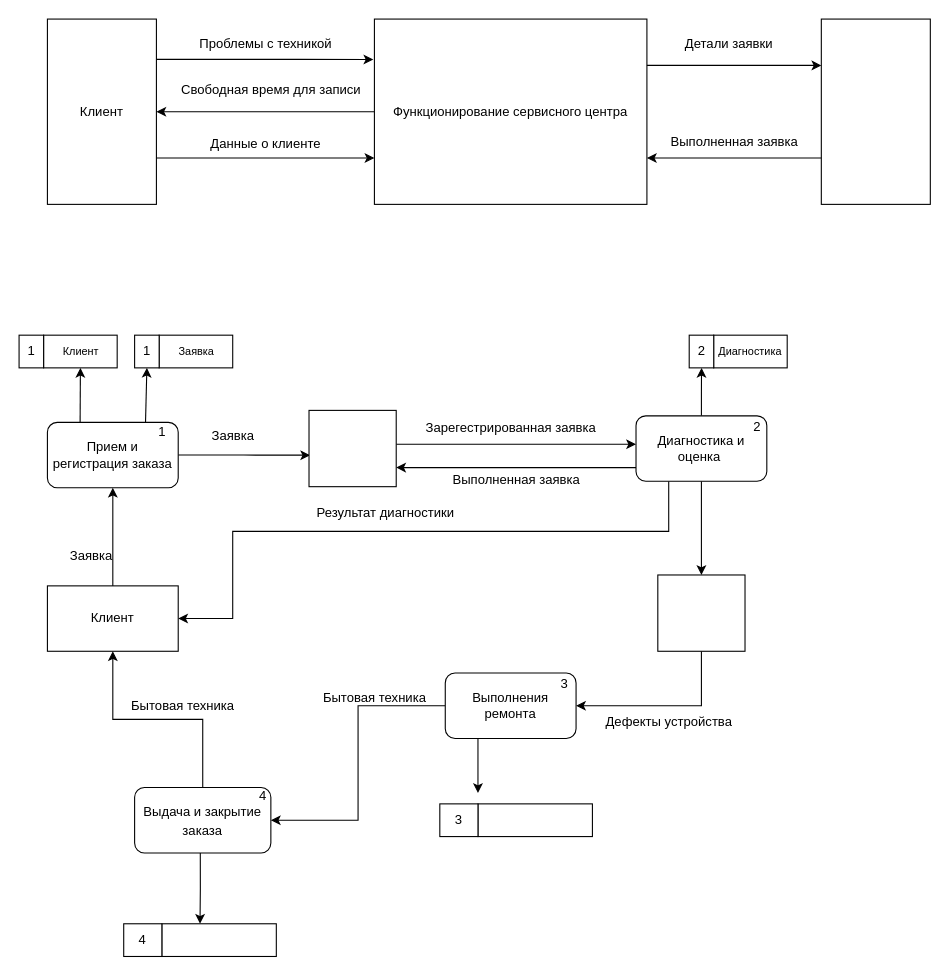
Image size: 949x976. Some labels were removed from this diagram. Each missing label, with the centre of its shape:
"Мастер" goes at point (701, 612).
"Менеджер" goes at point (352, 448).
"Отремонтированное устройство" goes at point (534, 820).
"Отчет" goes at point (218, 939).
"Сервисный центр" goes at point (875, 111).
